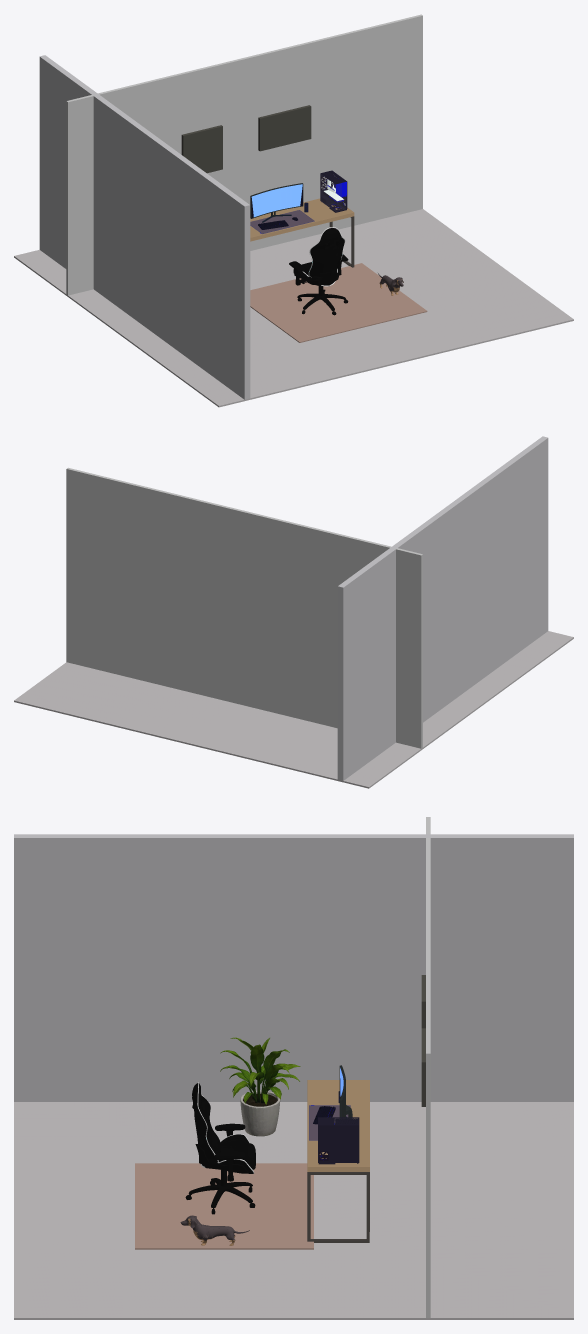
Rendered from diorama.glb.
3 views of the same model, one above another, from view 1: azimuth 30°, elevation 25°; view 2: azimuth 150°, elevation 25°; view 3: azimuth 270°, elevation 25° (orthographic). The views are drawn at different scales.
Parts seen in each view (by area): view 1: Floor, DeskSetup, Chair; view 2: Floor; view 3: Floor, DeskSetup, Chair, Plant, Ban.
Part boxes in pixels (box(x1,y1,x2,y2)): Floor: box(14, 14, 573, 407); DeskSetup: box(250, 170, 354, 267); Chair: box(289, 227, 348, 315); Floor: box(14, 436, 573, 788); Floor: box(14, 817, 573, 1319); DeskSetup: box(307, 1065, 369, 1242); Chair: box(185, 1082, 255, 1214); Plant: box(220, 1037, 300, 1136); Ban: box(180, 1215, 249, 1245).
Size of the model in its own units: 5 by 2.62 by 5.
14 materials, 12 textured.
